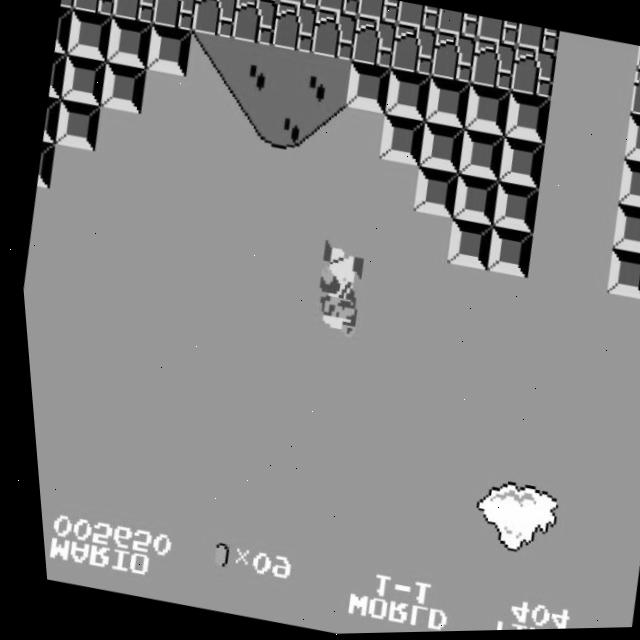17- undestructible_block: (306, 8, 360, 63), (465, 39, 519, 94), (267, 1, 320, 56), (346, 16, 399, 71), (386, 24, 439, 79), (426, 31, 479, 86), (505, 46, 558, 101), (227, 0, 280, 48), (188, 0, 241, 40), (149, 0, 201, 32), (394, 2, 441, 34), (473, 17, 520, 49), (513, 25, 560, 57), (434, 10, 481, 41), (110, 0, 162, 25), (355, 0, 402, 26), (623, 70, 640, 124), (315, 0, 362, 19), (71, 0, 122, 17), (276, 0, 322, 10), (632, 48, 640, 79), (59, 0, 82, 9), (237, 0, 282, 3)
4- fire_mario: (298, 240, 367, 343)
9- hard_block: (55, 52, 109, 107), (141, 23, 195, 78), (339, 61, 393, 116), (379, 69, 433, 124), (412, 121, 466, 176), (458, 84, 512, 139), (478, 226, 532, 281), (491, 136, 545, 191), (62, 8, 116, 62), (95, 60, 148, 115), (102, 15, 155, 70), (373, 114, 426, 169), (419, 76, 472, 131), (439, 219, 492, 274), (452, 129, 505, 184), (49, 98, 102, 152), (406, 167, 459, 221), (485, 182, 538, 236), (498, 92, 551, 146), (446, 175, 498, 228), (597, 249, 640, 304), (604, 205, 640, 259), (610, 159, 640, 214), (50, 6, 76, 55), (617, 115, 640, 169), (31, 141, 56, 189), (44, 51, 69, 99), (37, 97, 62, 144)
